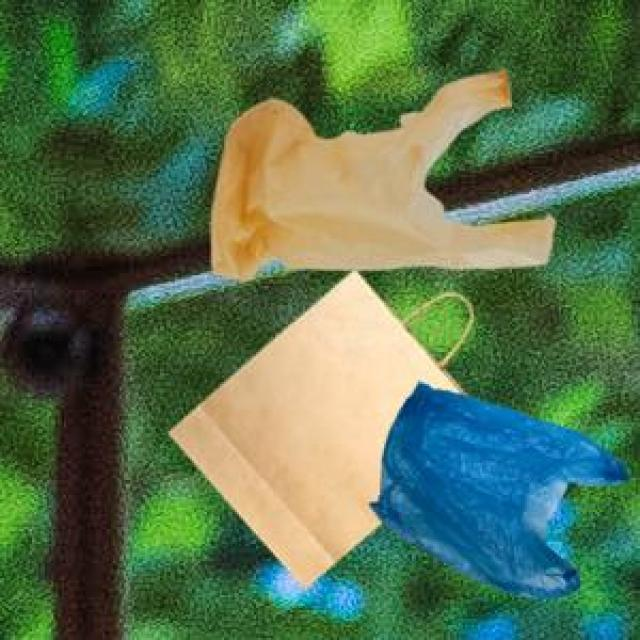paper: (164, 267, 461, 585)
